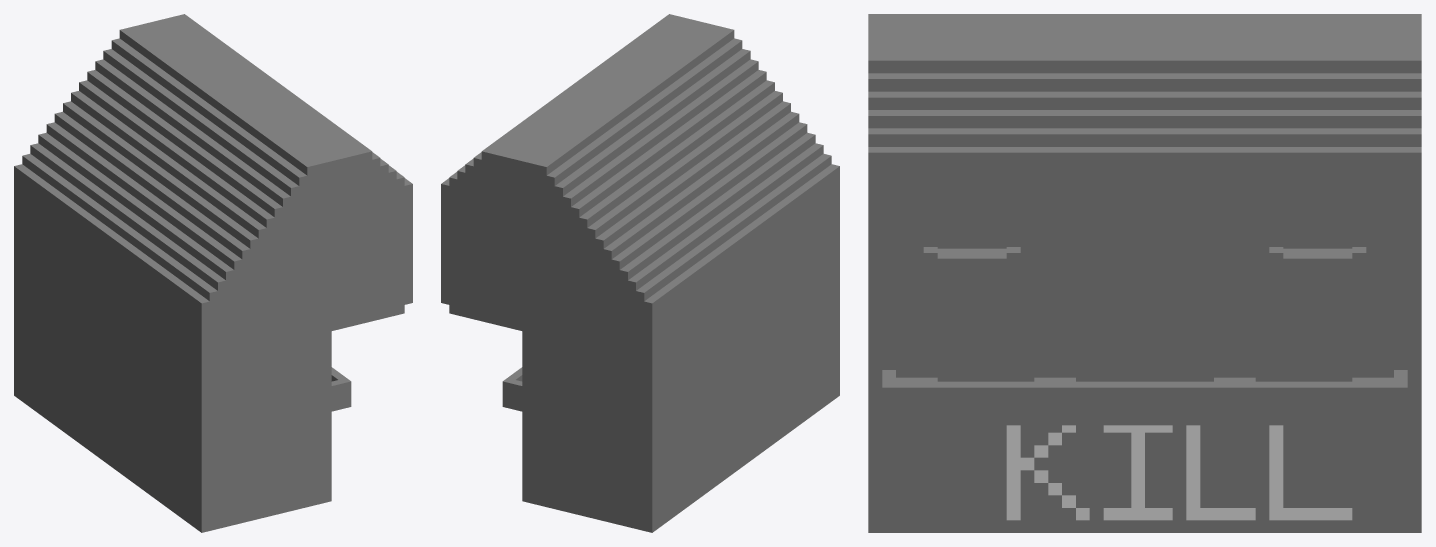
Rendered from Test Top Wall.obj.
3 renders of one model, left to right at view 1: azimuth 30°, elevation 25°; view 2: azimuth 150°, elevation 25°; view 3: azimuth 270°, elevation 25°, orthographic. The views are drawn at different scales.
Parts seen in each view (by area): view 1: Test Top Wall; view 2: Test Top Wall; view 3: Test Top Wall.
Part boxes in pixels (x1,y1,x2,y2): Test Top Wall: (14, 14, 412, 532); Test Top Wall: (441, 14, 839, 532); Test Top Wall: (868, 14, 1421, 532).
Size of the model in its own units: 27 by 40 by 40.
1 material, 1 textured.
